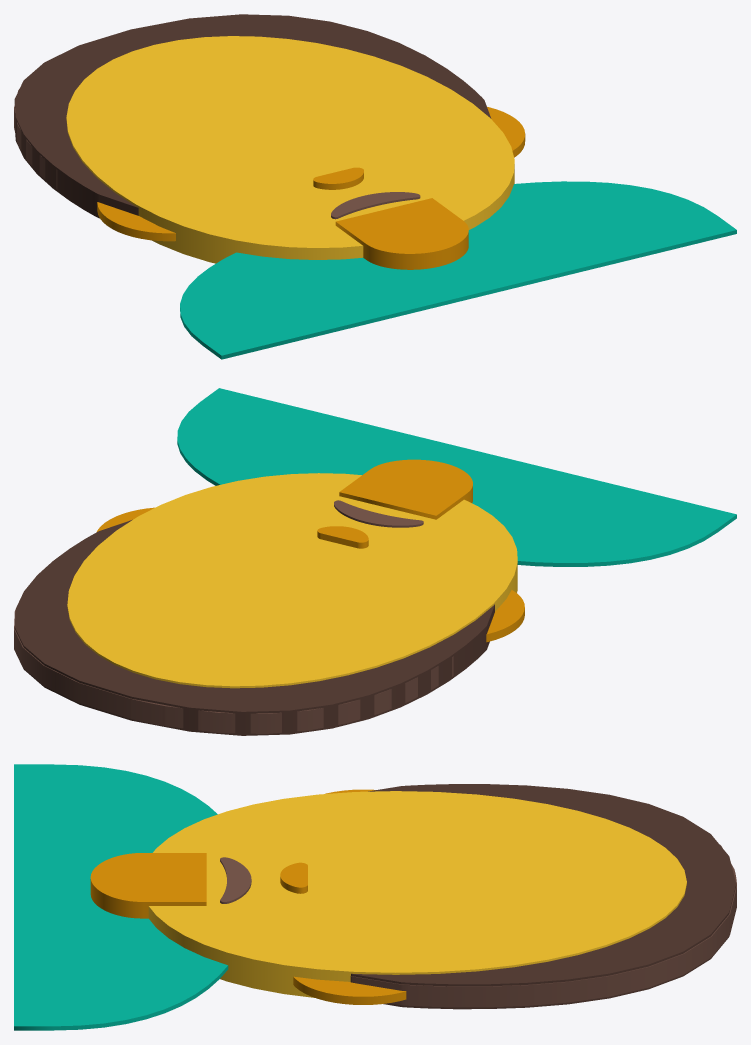
Rendered from emoji_u1f64d_200d_2642.glb.
3 renders of one model, top to bottom at view 1: azimuth 30°, elevation 25°; view 2: azimuth 150°, elevation 25°; view 3: azimuth 270°, elevation 25°, orthographic. The views are drawn at different scales.
Parts seen in each view (by area): view 1: emoji_u1f64d_200d_2642; view 2: emoji_u1f64d_200d_2642; view 3: emoji_u1f64d_200d_2642.
Part boxes in pixels (bbox=[...]): emoji_u1f64d_200d_2642: bbox=[14, 14, 736, 359]; emoji_u1f64d_200d_2642: bbox=[14, 388, 736, 735]; emoji_u1f64d_200d_2642: bbox=[14, 764, 736, 1030].
Size of the model in its own units: 0.0271 by 0.002 by 0.0316.
